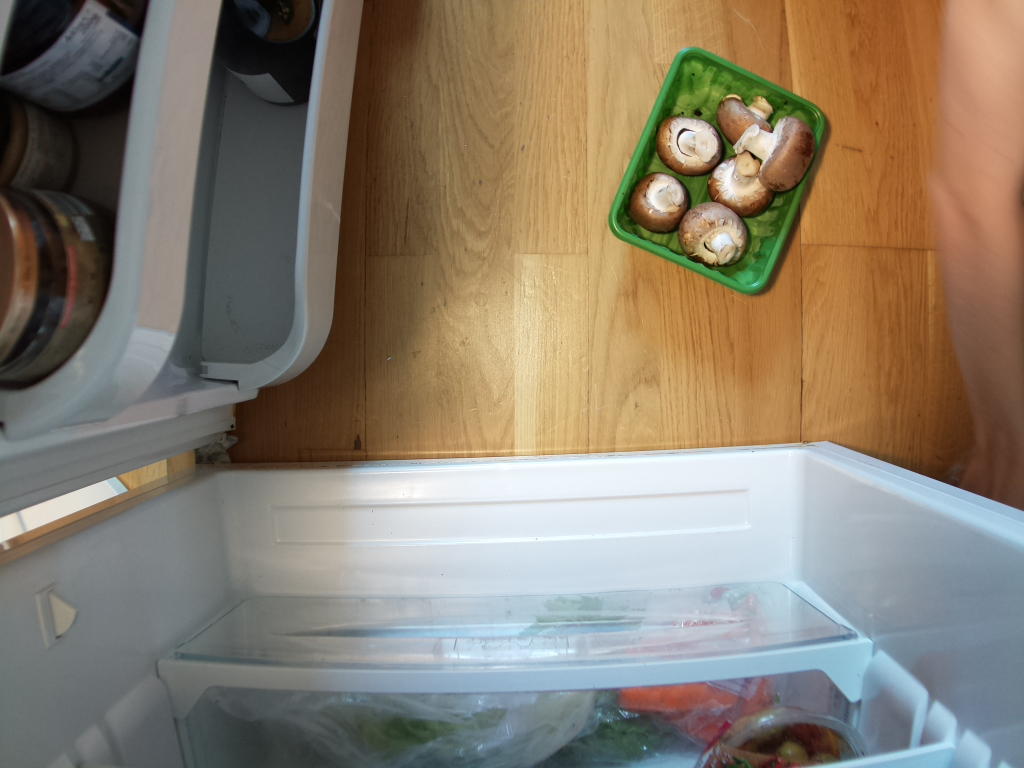mushrooms: (611, 49, 827, 293)
